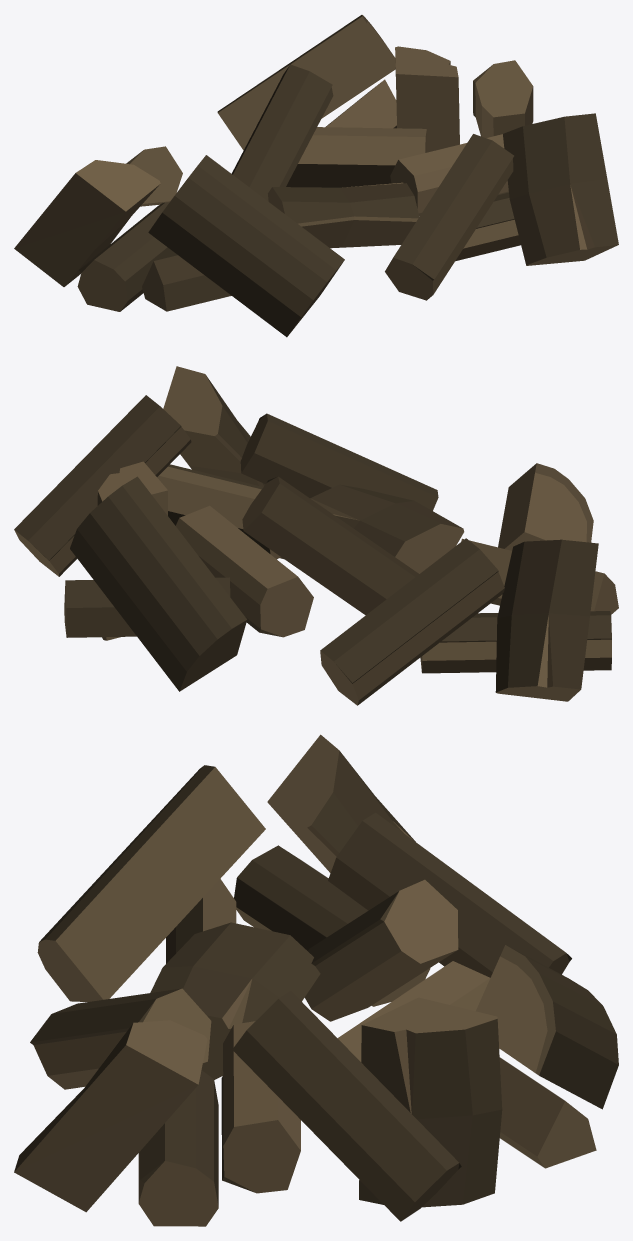
File: EA03_Prop_Forester_wooden_01d.glb
The picture shows the model from 3 angles, top to bottom: view 1: azimuth 30°, elevation 25°; view 2: azimuth 150°, elevation 25°; view 3: azimuth 270°, elevation 25°; orthographic projection. The views are drawn at different scales.
Parts seen in each view (by area): view 1: EA03_Prop_Forester_wooden_01d; view 2: EA03_Prop_Forester_wooden_01d; view 3: EA03_Prop_Forester_wooden_01d.
Boxes of the visible parts, x1,y1,x2,y2 form: EA03_Prop_Forester_wooden_01d: (14, 15, 618, 337); EA03_Prop_Forester_wooden_01d: (14, 366, 618, 705); EA03_Prop_Forester_wooden_01d: (14, 734, 618, 1226).
Size of the model in its own units: 2.17 by 0.6437 by 1.57.
1 material, 1 textured.
